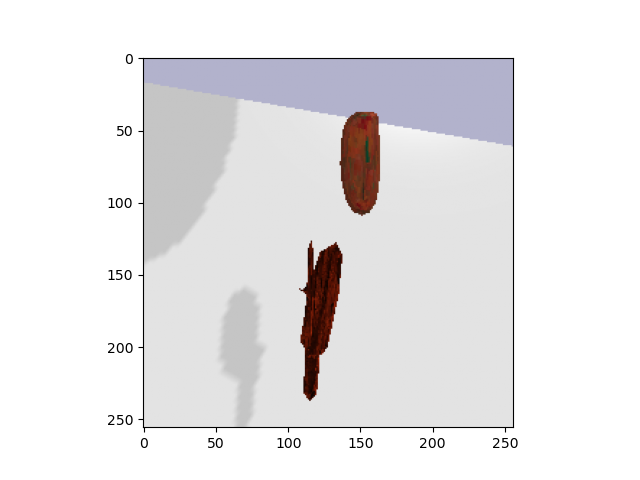v249b387_106: (329, 102, 391, 219)
v249b387_107: (298, 237, 348, 407)
